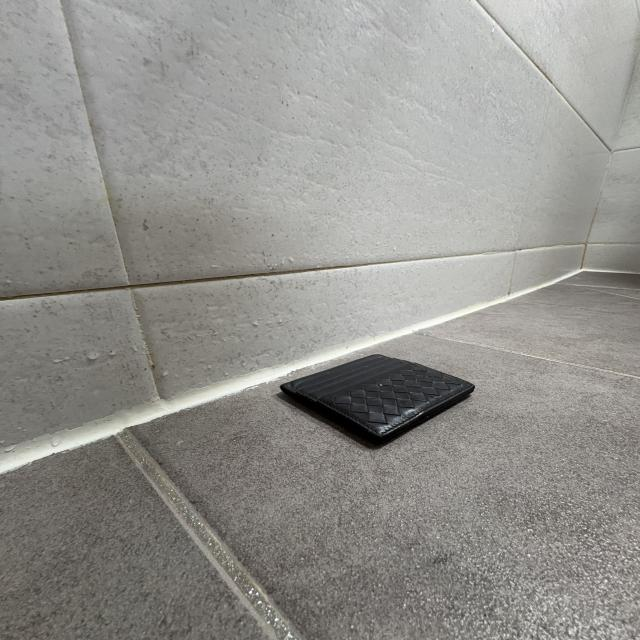wallet: (275, 354, 480, 451)
